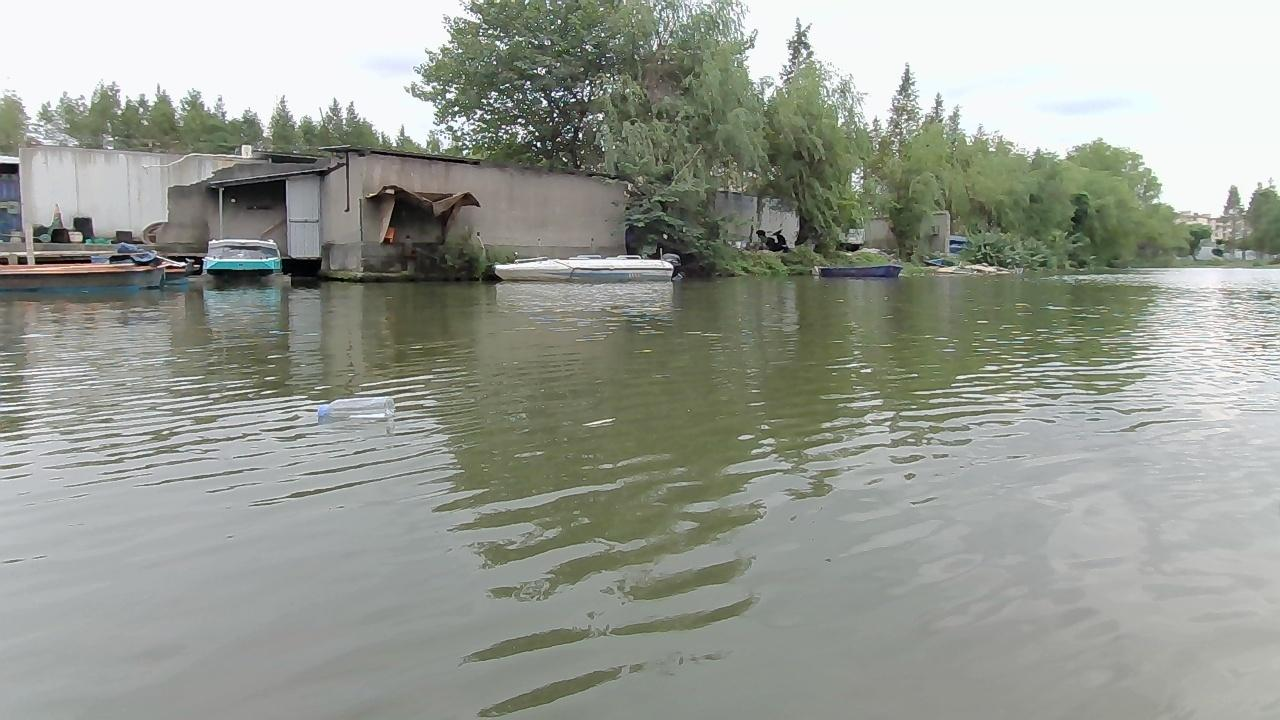bottle: (307, 394, 402, 417)
